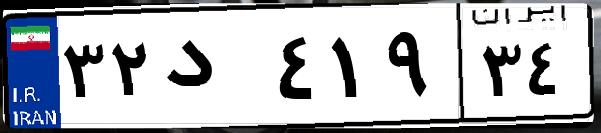1: (330, 28, 385, 110)
2: (110, 28, 158, 98)
3: (57, 26, 110, 100), (475, 38, 525, 113)
4: (270, 28, 330, 110), (525, 38, 570, 115)
9: (385, 28, 445, 110)
د: (158, 20, 270, 120)
